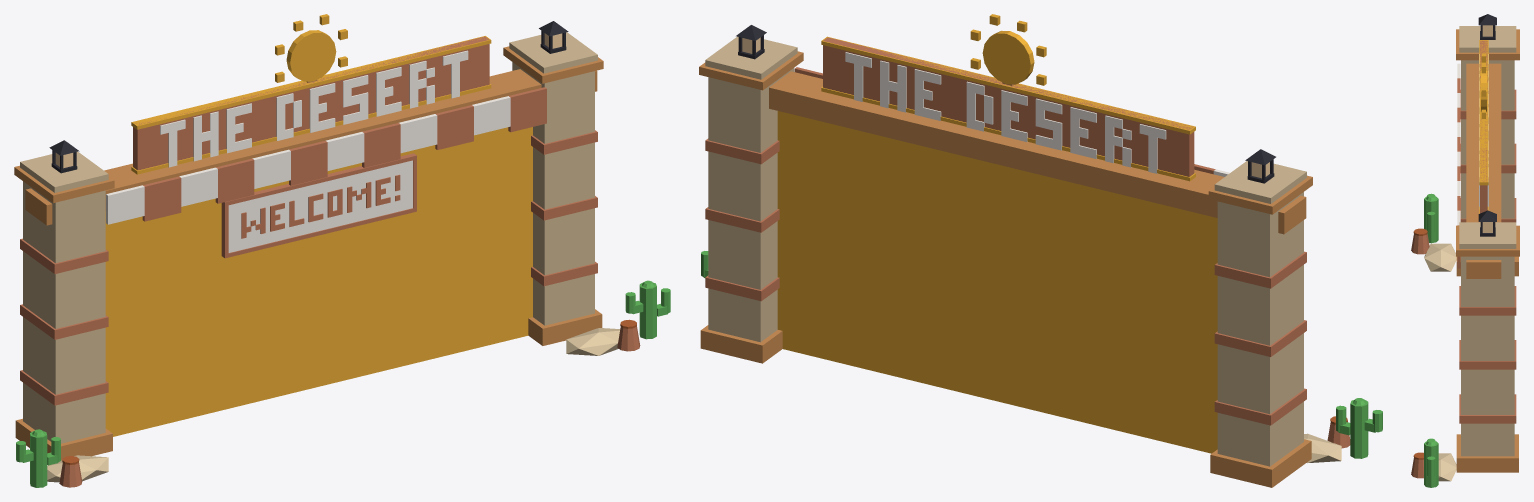
File: CatCafe_Desert_Gate.glb
The picture shows the model from 3 angles, left to right: view 1: azimuth 30°, elevation 25°; view 2: azimuth 150°, elevation 25°; view 3: azimuth 270°, elevation 25°; orthographic projection. The views are drawn at different scales.
Parts seen in each view (by area): view 1: CatCafe_Desert_Gate, CatCafe_Desert_Gate_Bars, CatCafe_Desert_Gate_SignBoard; view 2: CatCafe_Desert_Gate_Bars, CatCafe_Desert_Gate; view 3: CatCafe_Desert_Gate, CatCafe_Desert_Gate_Lamp_Bulb.
Part boxes in pixels (bbox=[...]): CatCafe_Desert_Gate: bbox=[14, 14, 670, 487]; CatCafe_Desert_Gate_Bars: bbox=[105, 127, 532, 436]; CatCafe_Desert_Gate_SignBoard: bbox=[228, 160, 412, 252]; CatCafe_Desert_Gate_Bars: bbox=[777, 111, 1217, 453]; CatCafe_Desert_Gate: bbox=[699, 14, 1382, 487]; CatCafe_Desert_Gate: bbox=[1411, 14, 1519, 487]; CatCafe_Desert_Gate_Lamp_Bulb: bbox=[1482, 25, 1492, 232].
Bounding box in the file's own units: 35.38 × 19.5 × 6.2.
Materials: 1 (1 with a texture image).
